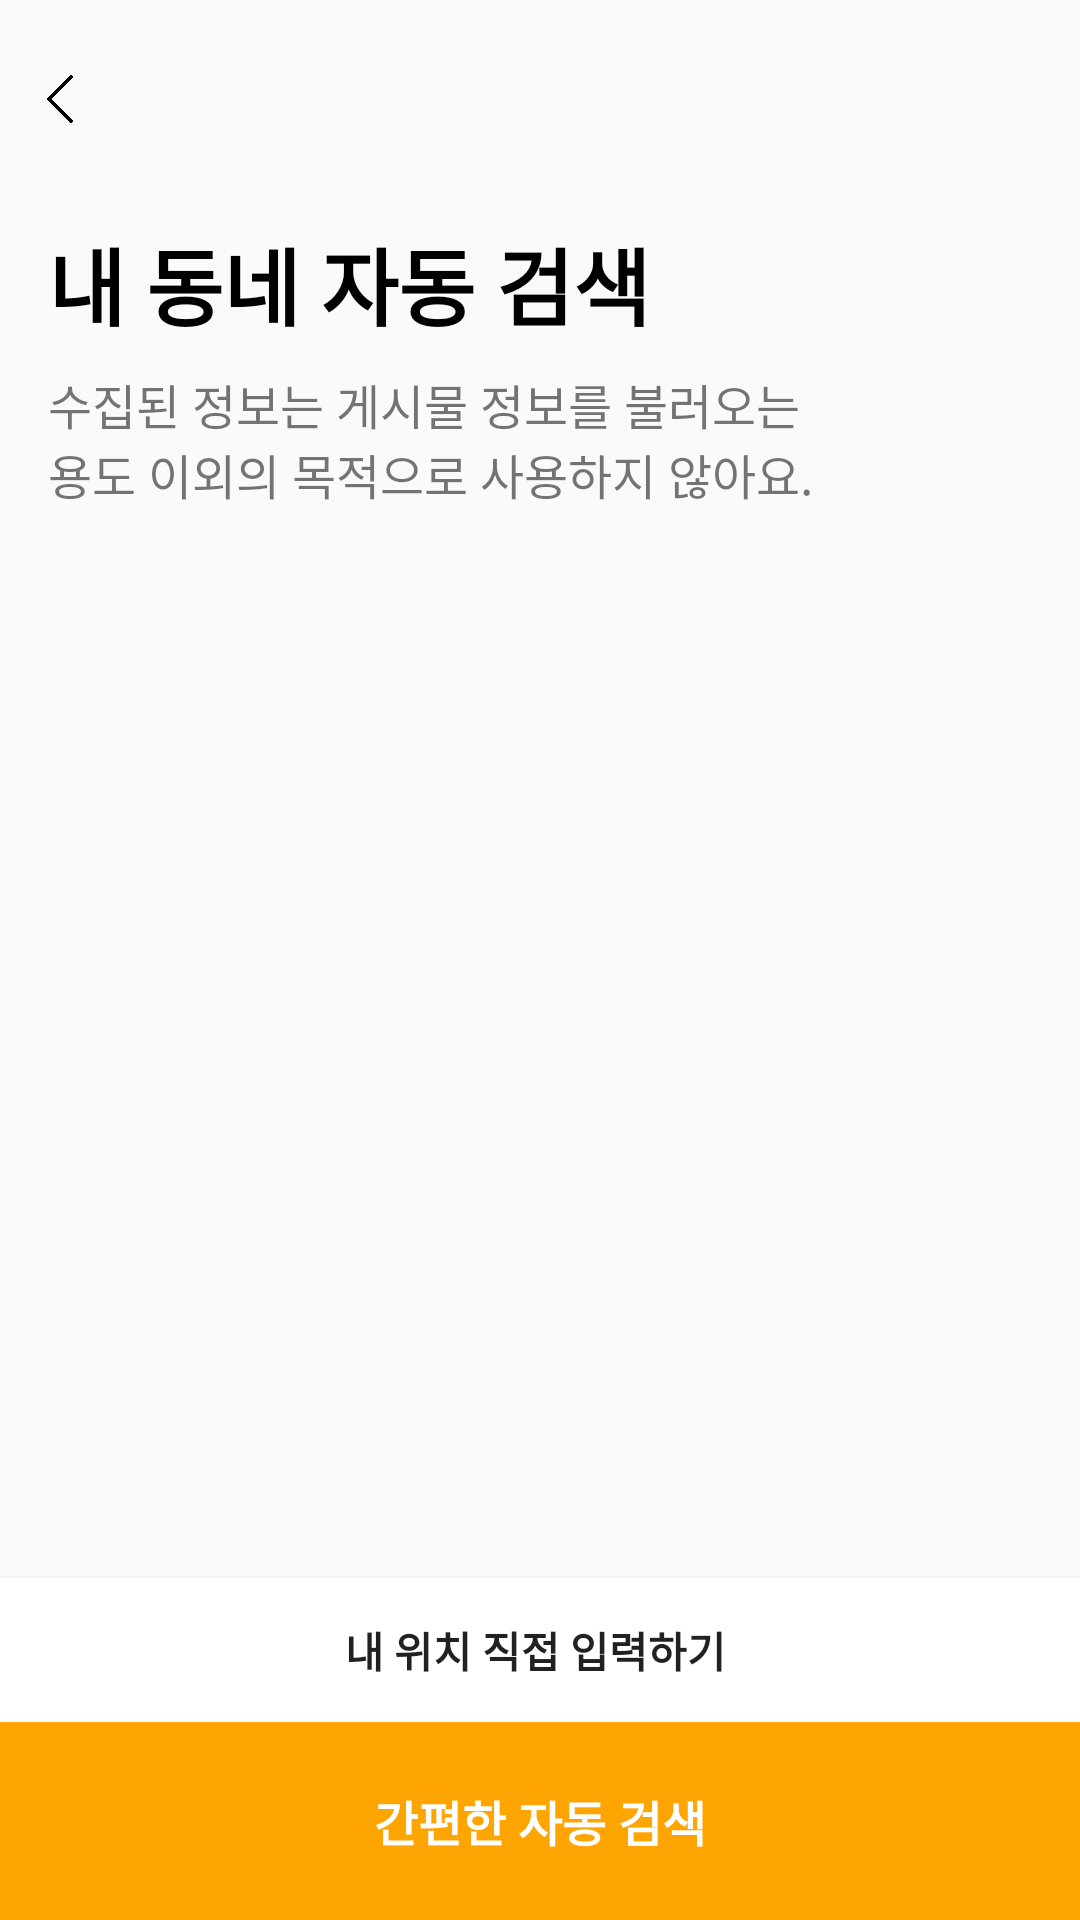

Icon bounding boxes for this 1080px×1920px phone screenshot, format Rect(x1, y1, x2, y2):
back: Rect(47, 75, 73, 123)
